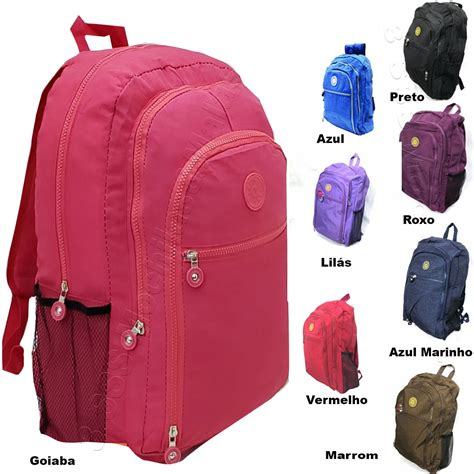nylon: (4, 16, 292, 465)
